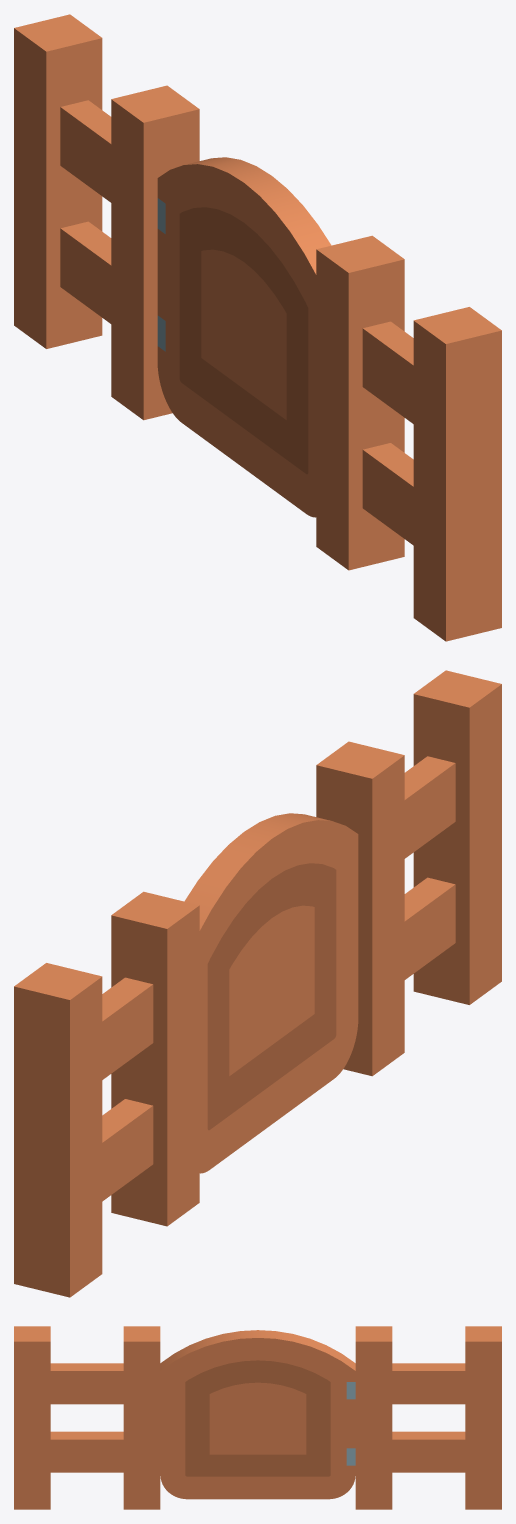
Rendered from fenceGate.dae.
The picture shows the model from 3 angles, top to bottom: view 1: azimuth 30°, elevation 25°; view 2: azimuth 150°, elevation 25°; view 3: azimuth 270°, elevation 25°; orthographic projection. The views are drawn at different scales.
Parts seen in each view (by area): view 1: fenceGate, gate; view 2: fenceGate, gate; view 3: fenceGate, gate.
Boxes of the visible parts, x1,y1,x2,y2 form: fenceGate: (14, 14, 501, 641); gate: (157, 157, 331, 517); fenceGate: (14, 670, 501, 1297); gate: (184, 813, 358, 1173); fenceGate: (14, 1326, 501, 1509); gate: (160, 1330, 355, 1499).
Size of the model in its own units: 0.075 by 0.38 by 1.
